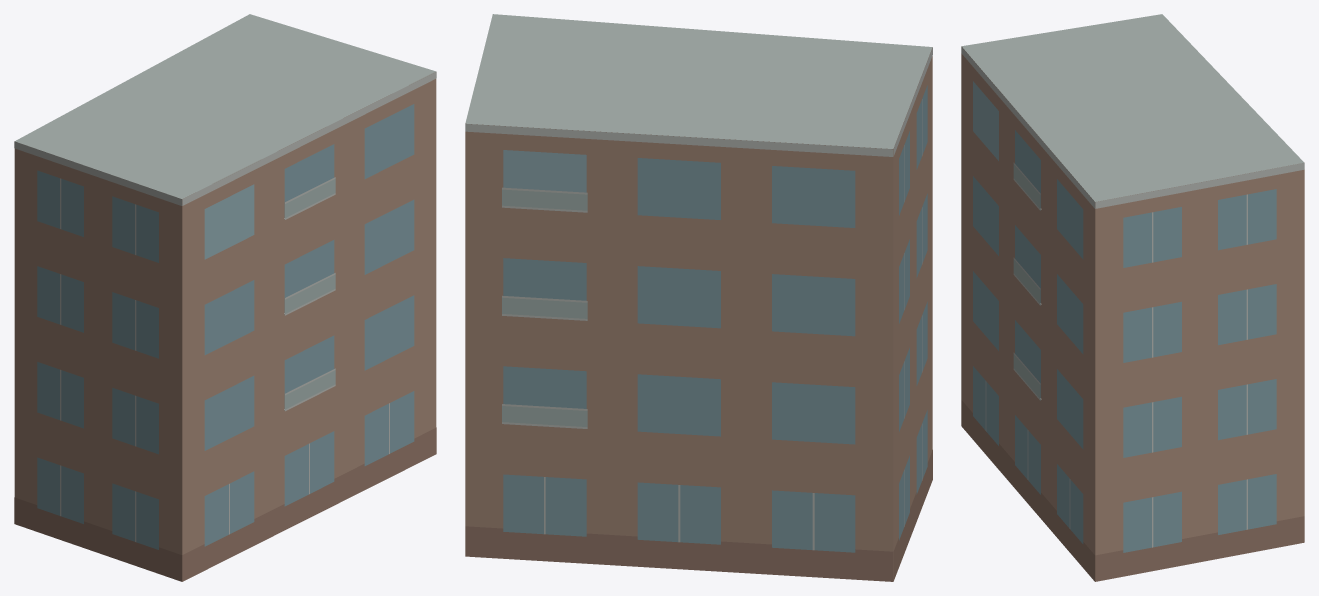
File: survey-upis-32726175.glb
3 renders of one model, left to right at view 1: azimuth 30°, elevation 25°; view 2: azimuth 150°, elevation 25°; view 3: azimuth 270°, elevation 25°, orthographic. The views are drawn at different scales.
Visible parts, largest first — view 1: survey-upis-32726175.tmp; view 2: survey-upis-32726175.tmp; view 3: survey-upis-32726175.tmp.
Part boxes in pixels (left/top/right/bottom): survey-upis-32726175.tmp: left=14, top=14, right=436, bottom=581; survey-upis-32726175.tmp: left=465, top=14, right=932, bottom=581; survey-upis-32726175.tmp: left=961, top=14, right=1304, bottom=581.
Size of the model in its own units: 14.07 by 13.25 by 10.86.
